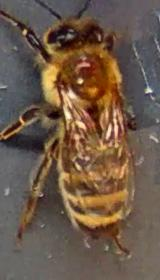varroa_mite: (66, 49, 101, 84)
